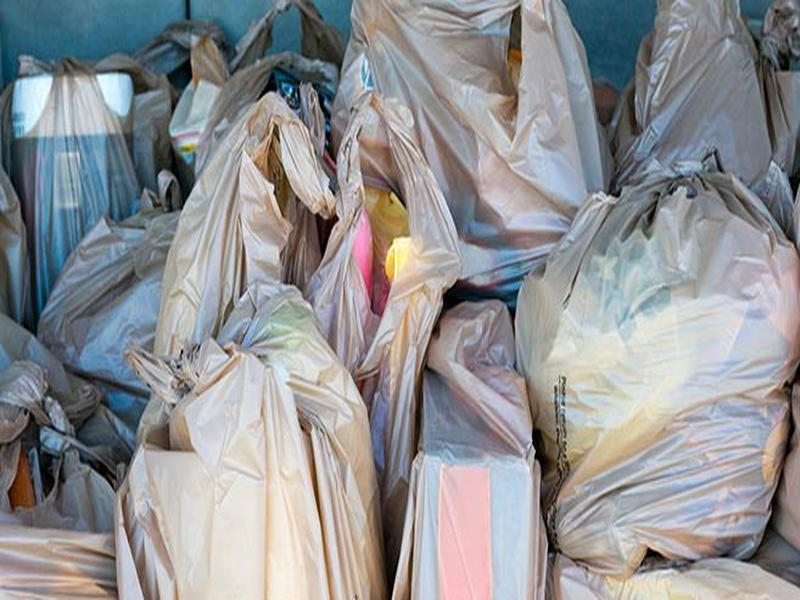plastic: (505, 154, 800, 577), (108, 277, 391, 600), (334, 2, 602, 287), (387, 300, 554, 600), (156, 84, 331, 351), (590, 2, 800, 192), (40, 194, 188, 397), (1, 446, 127, 600)
